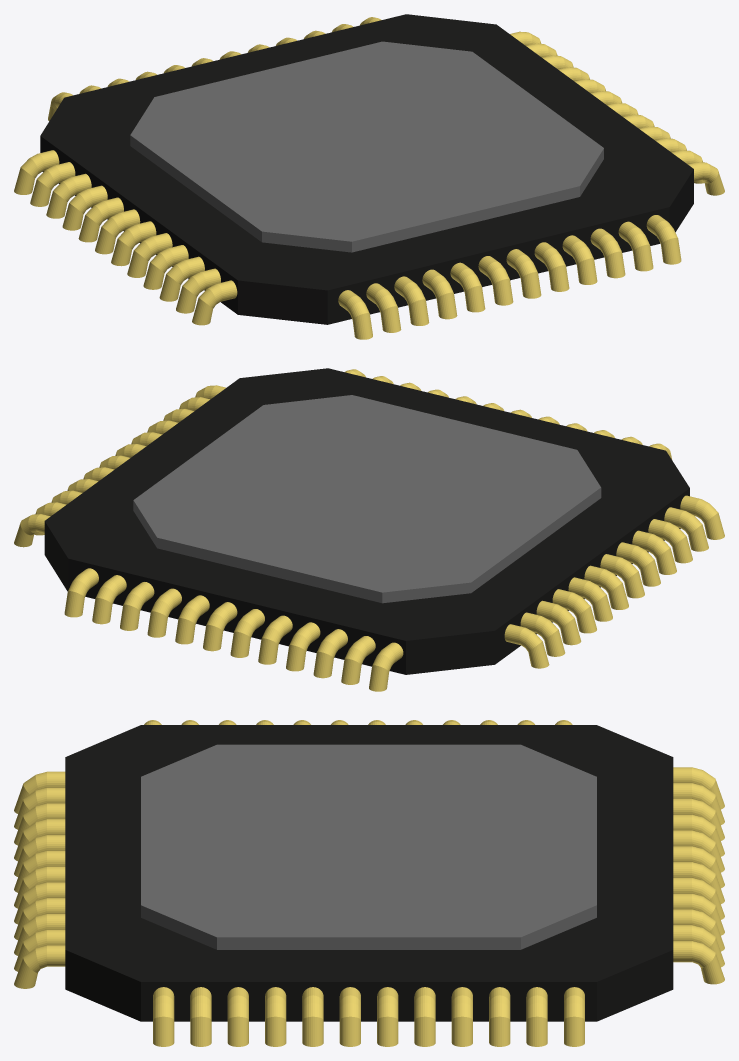
The model's file is microprocessor.fbx.
3 views of the same model, one above another, from view 1: azimuth 30°, elevation 25°; view 2: azimuth 150°, elevation 25°; view 3: azimuth 270°, elevation 25° (orthographic). The views are drawn at different scales.
Parts seen in each view (by area): view 1: Cube; view 2: Cube; view 3: Cube.
Part boxes in pixels (x1,y1,x2,y2): Cube: [14, 14, 724, 339]; Cube: [14, 368, 724, 691]; Cube: [14, 720, 724, 1046].
Size of the model in its own units: 382 by 33.05 by 381.
